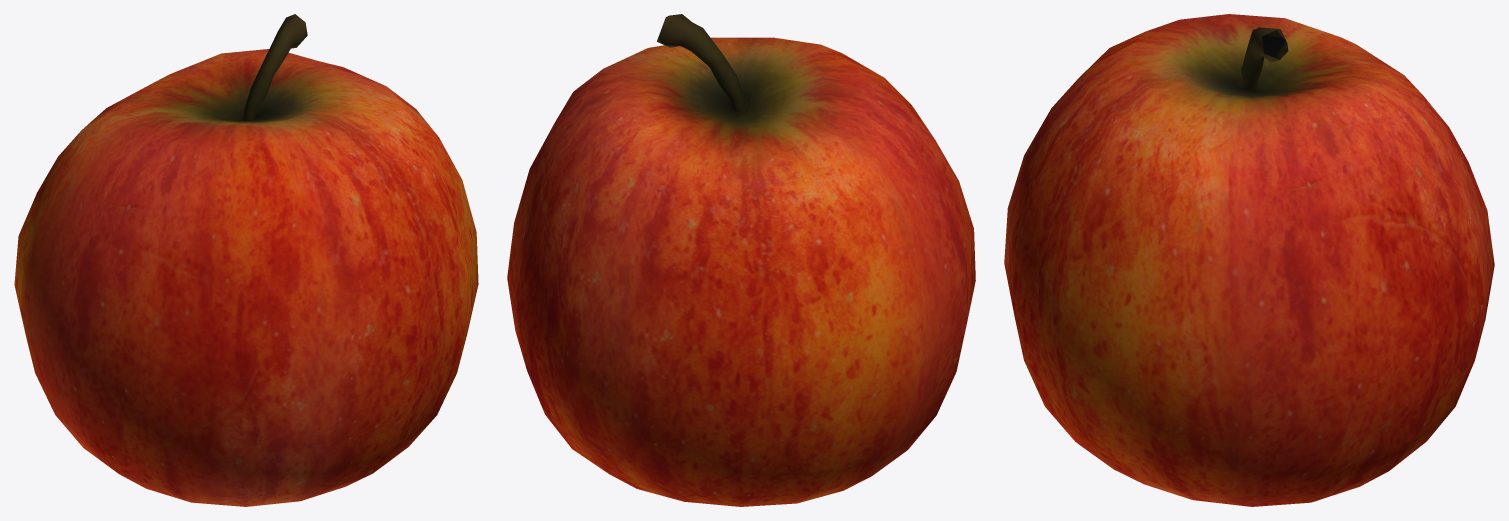
File: AppleRed.fbx
The picture shows the model from 3 angles, left to right: view 1: azimuth 30°, elevation 25°; view 2: azimuth 150°, elevation 25°; view 3: azimuth 270°, elevation 25°; orthographic projection. The views are drawn at different scales.
Parts seen in each view (by area): view 1: Default_Layer; view 2: Default_Layer; view 3: Default_Layer.
Boxes of the visible parts, left/top/right/bottom form: Default_Layer: left=14, top=14, right=478, bottom=506; Default_Layer: left=507, top=14, right=975, bottom=506; Default_Layer: left=1004, top=14, right=1494, bottom=506.
Bounding box in the file's own units: 25.06 × 25.56 × 24.64.
